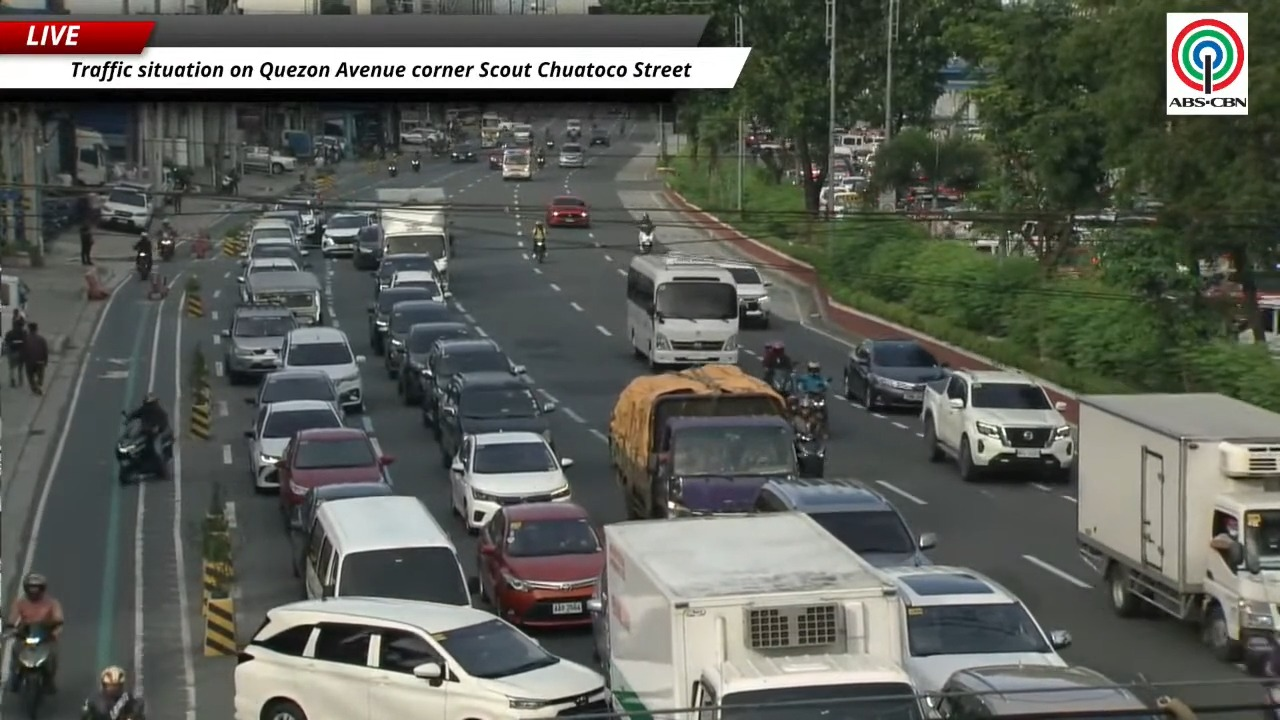bus: (627, 255, 739, 368), (501, 149, 532, 180), (480, 112, 501, 148), (480, 113, 501, 130)
car: (234, 597, 609, 719), (881, 565, 1070, 692), (753, 478, 935, 565), (477, 502, 604, 626), (926, 665, 1158, 719), (450, 432, 572, 531), (277, 427, 393, 527), (438, 371, 554, 460), (421, 339, 524, 437), (245, 400, 343, 491), (844, 339, 947, 409), (281, 327, 365, 411), (397, 321, 473, 404), (384, 298, 461, 378), (222, 305, 297, 384), (293, 473, 393, 531), (367, 287, 432, 353), (246, 370, 340, 411), (717, 260, 770, 327), (100, 182, 155, 231), (374, 253, 435, 293), (321, 212, 372, 256), (244, 219, 300, 257), (273, 197, 322, 238), (241, 239, 306, 268), (390, 270, 450, 301), (260, 208, 309, 242), (237, 257, 300, 281), (545, 195, 589, 227), (352, 225, 383, 270), (400, 127, 442, 145), (558, 142, 584, 167), (451, 144, 477, 162), (588, 127, 610, 146), (399, 130, 426, 144), (566, 119, 581, 139), (488, 152, 501, 169)
motorcycle: (5, 625, 52, 719), (115, 415, 173, 483), (1243, 637, 1279, 719), (795, 428, 825, 477), (802, 390, 828, 437), (110, 694, 145, 719), (765, 370, 793, 397), (135, 252, 152, 280), (158, 235, 175, 261), (219, 173, 237, 194), (638, 230, 653, 253), (532, 239, 546, 263), (388, 163, 398, 178), (411, 159, 420, 172), (536, 156, 545, 168), (546, 139, 555, 148)
truck: (587, 512, 920, 719), (1077, 393, 1279, 664), (608, 365, 797, 518), (921, 369, 1076, 482), (375, 188, 453, 287), (73, 127, 110, 186), (240, 145, 297, 174)
